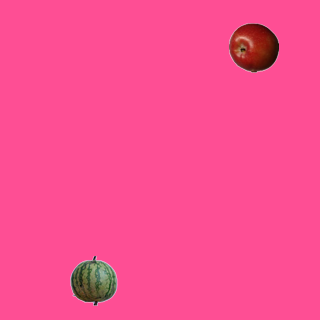Apple Braeburn: (228, 22, 278, 72)
Watermelon: (68, 255, 118, 305)
